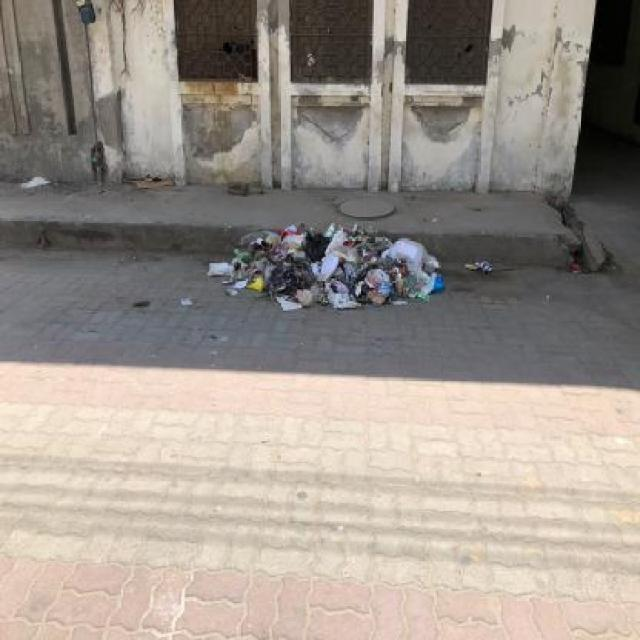garbage: (201, 211, 534, 336), (180, 297, 197, 313)
